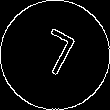L_SW: (29, 26, 81, 84)
